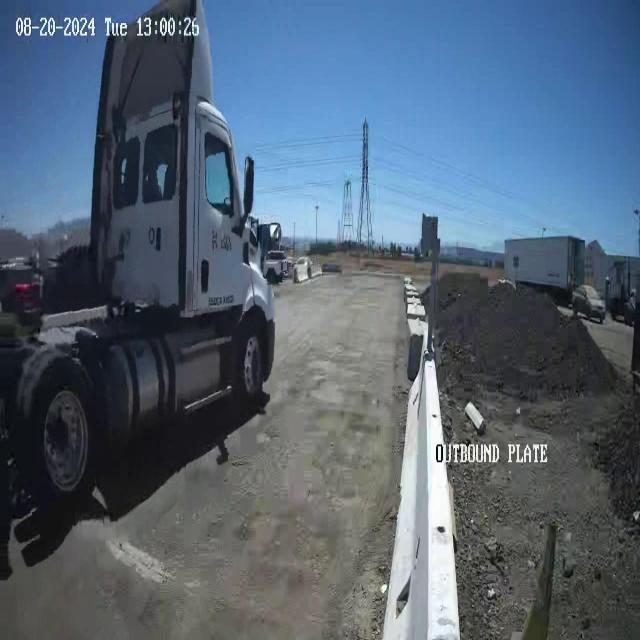BOBTAIL: (1, 1, 277, 511)
